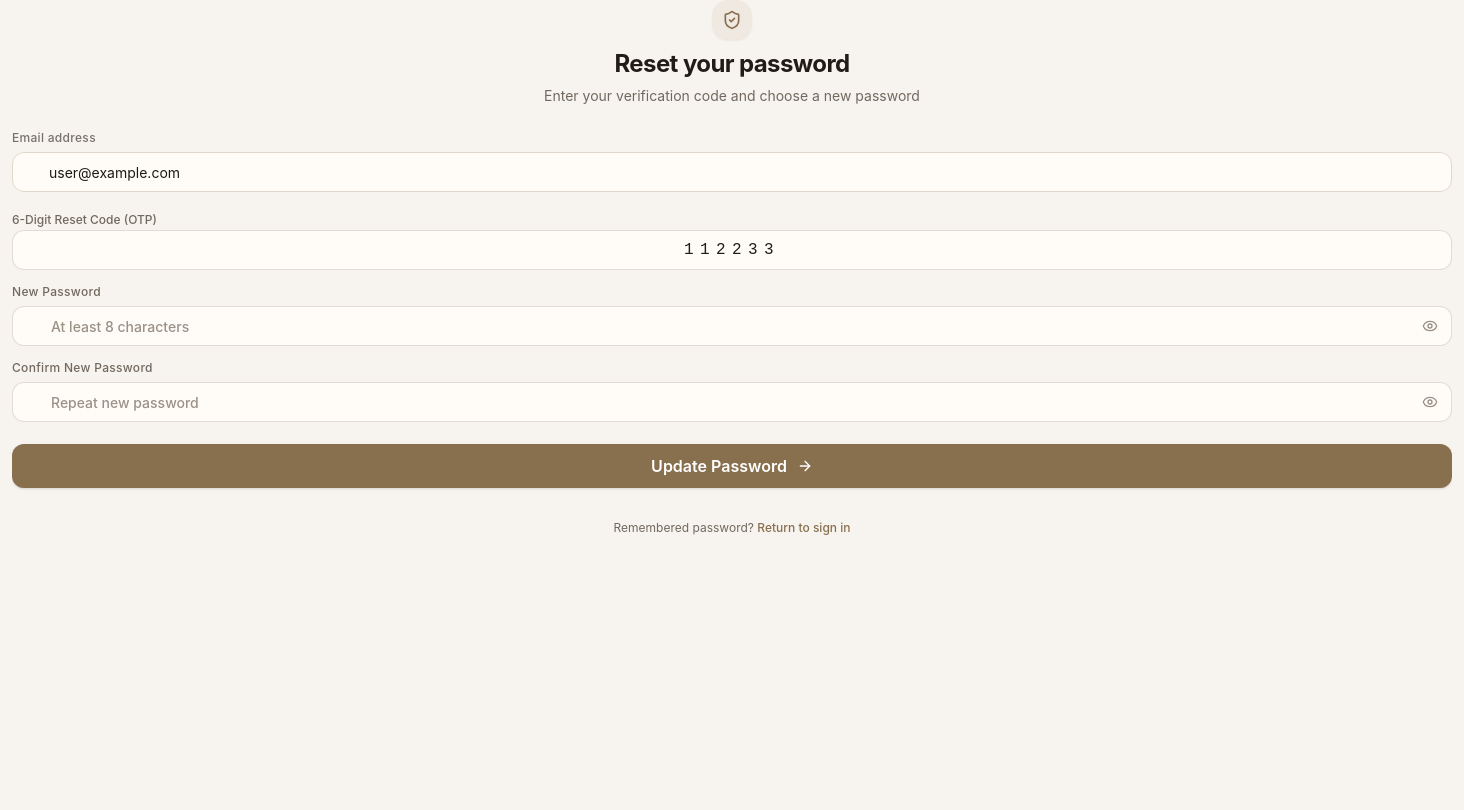
Test: Authentication Flow & Security Hardening › pre-populates query parameters and submits reset password successfully
expect the heading "Reset your password" is shown: met, box [614,49,850,78]
expect the field showing "user@example.com" is shown: met, box [12,152,1452,192]
In the password field with placeholder "At least 8 characters": (732, 326) [12,306,1452,346], type "newpassword123"
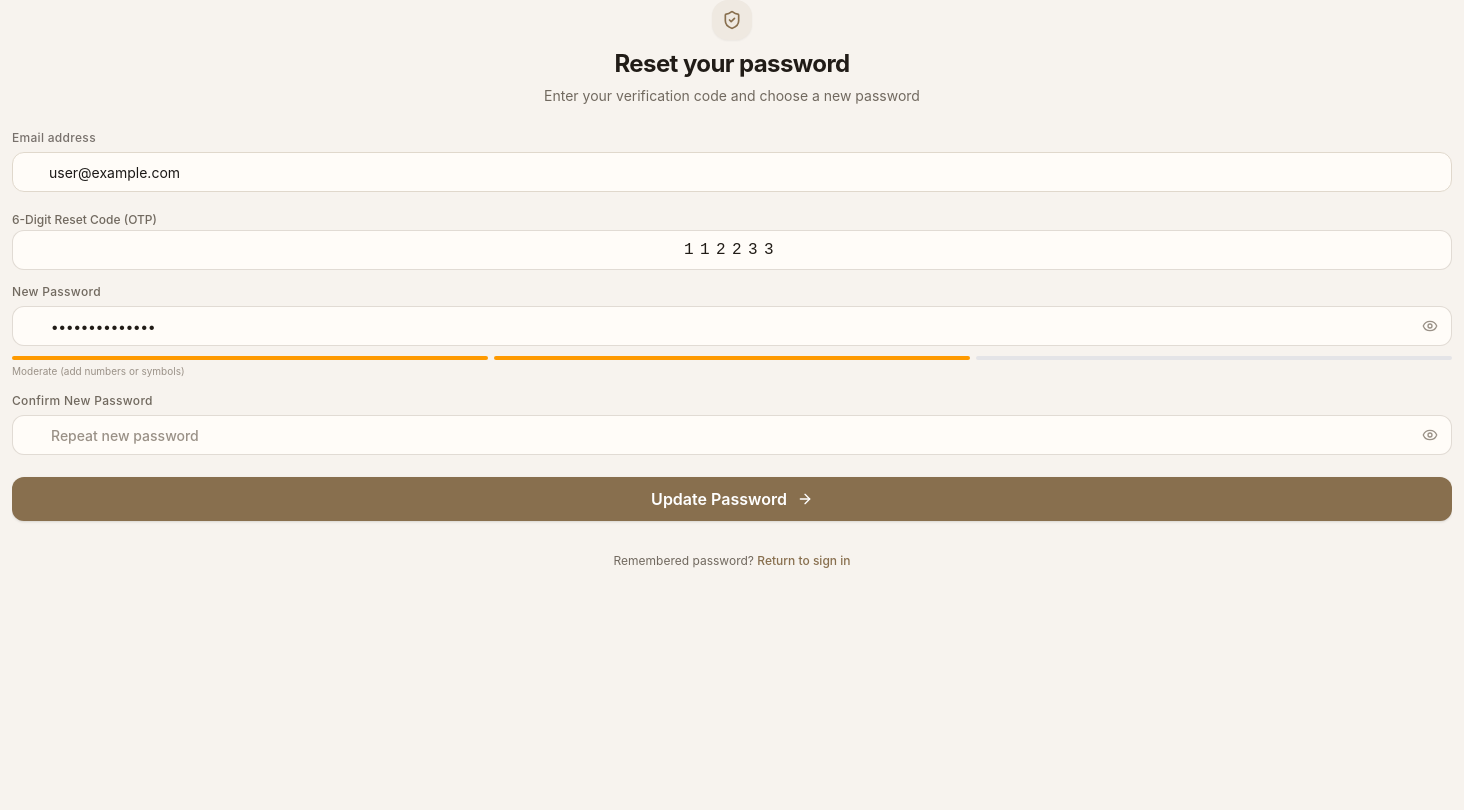
In the password field with placeholder "Repeat new password": (732, 435) [12,415,1452,455], type "newpassword123"
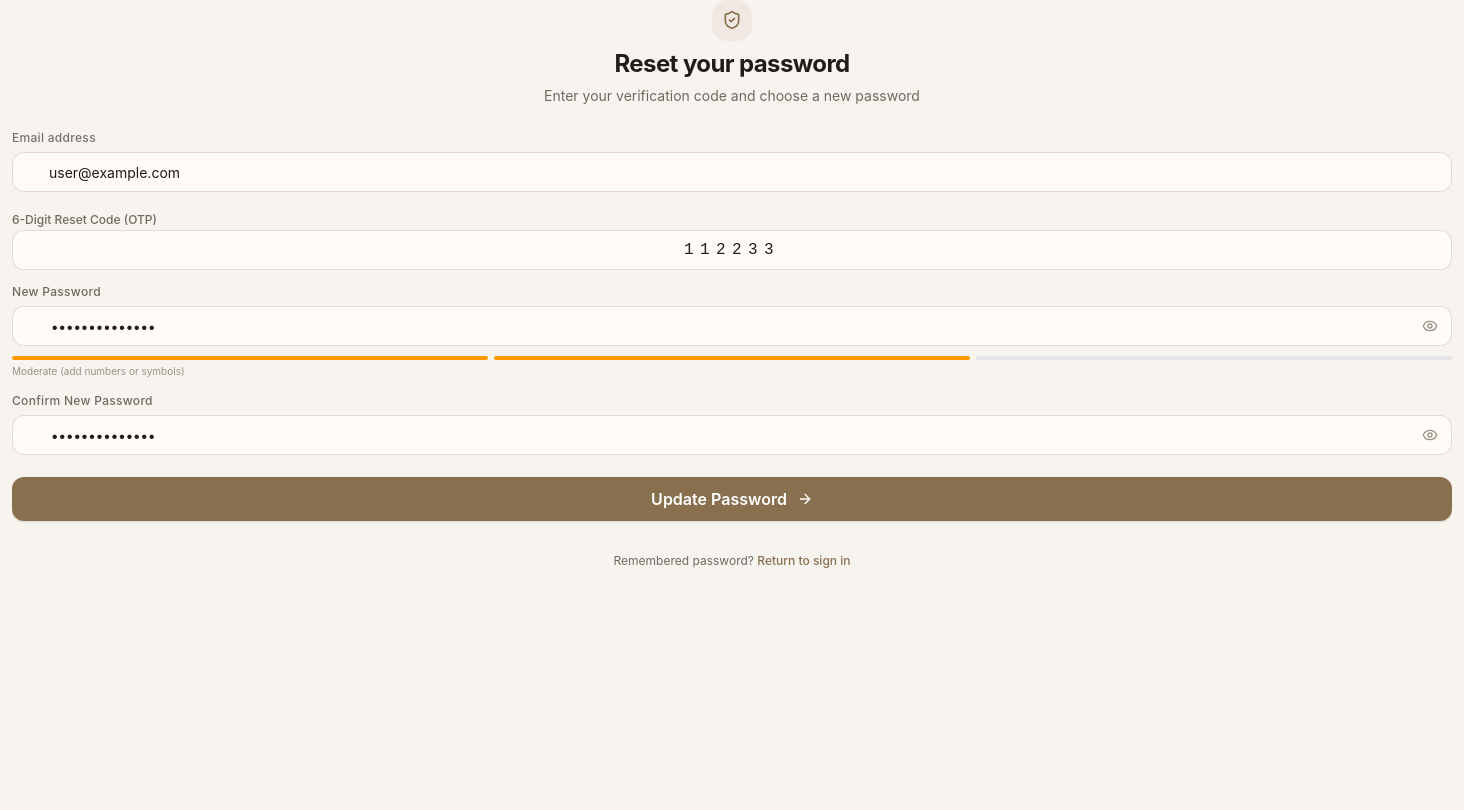
Click the button "Update Password": (732, 499) [12,477,1452,521]
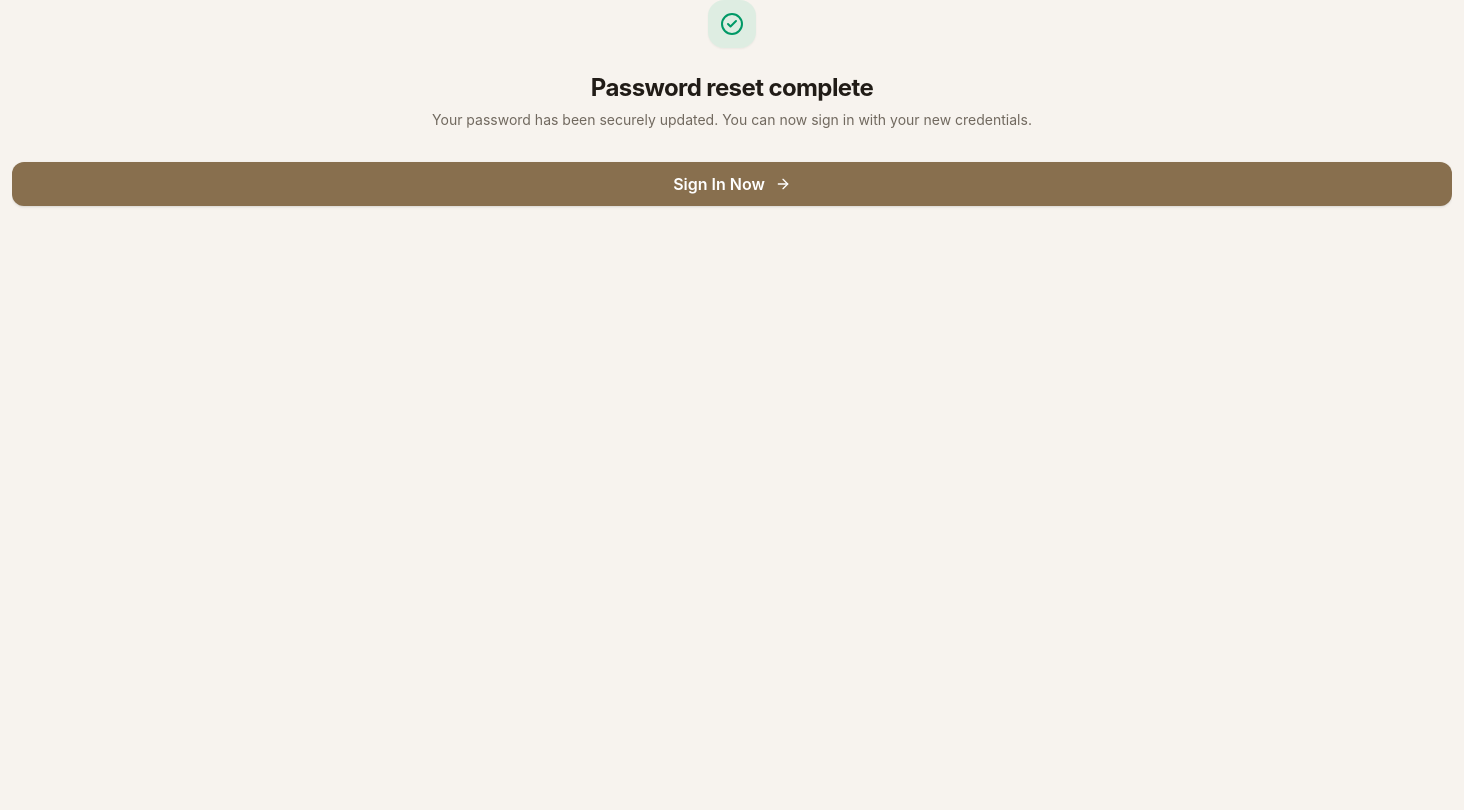
expect the heading "Password reset complete" is shown: met, box [591,73,873,102]
